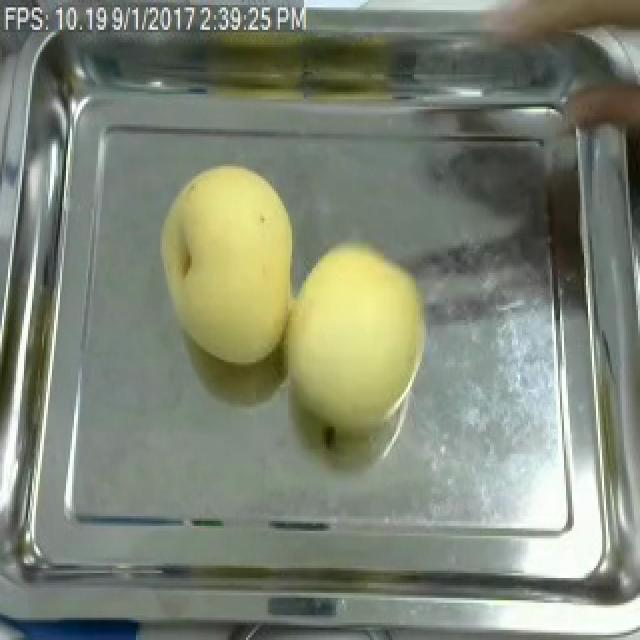Fruit: (152, 154, 304, 372), (276, 233, 436, 439)
